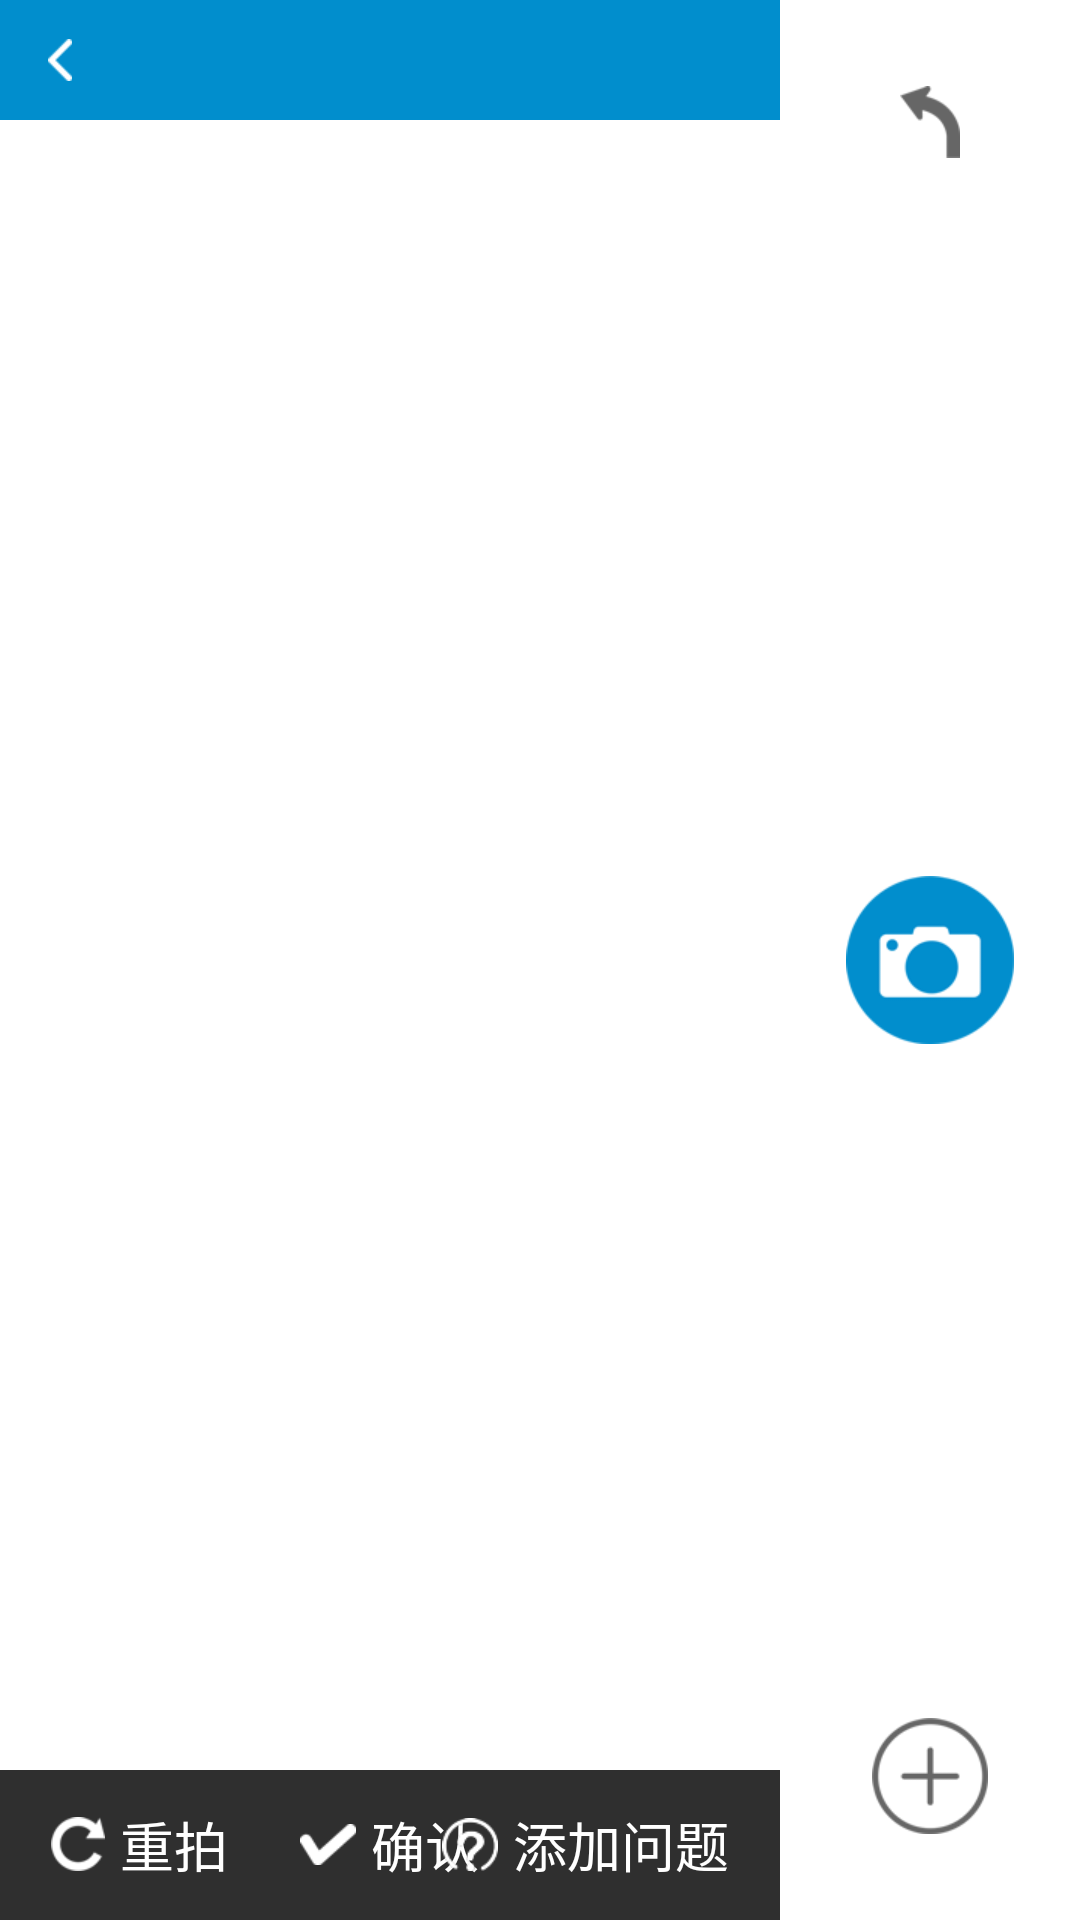

Icon click points for this 1080x1920 phone screenshot, format point (x, y):
add: point (930, 1776)
back: point (60, 60), point (930, 122)
